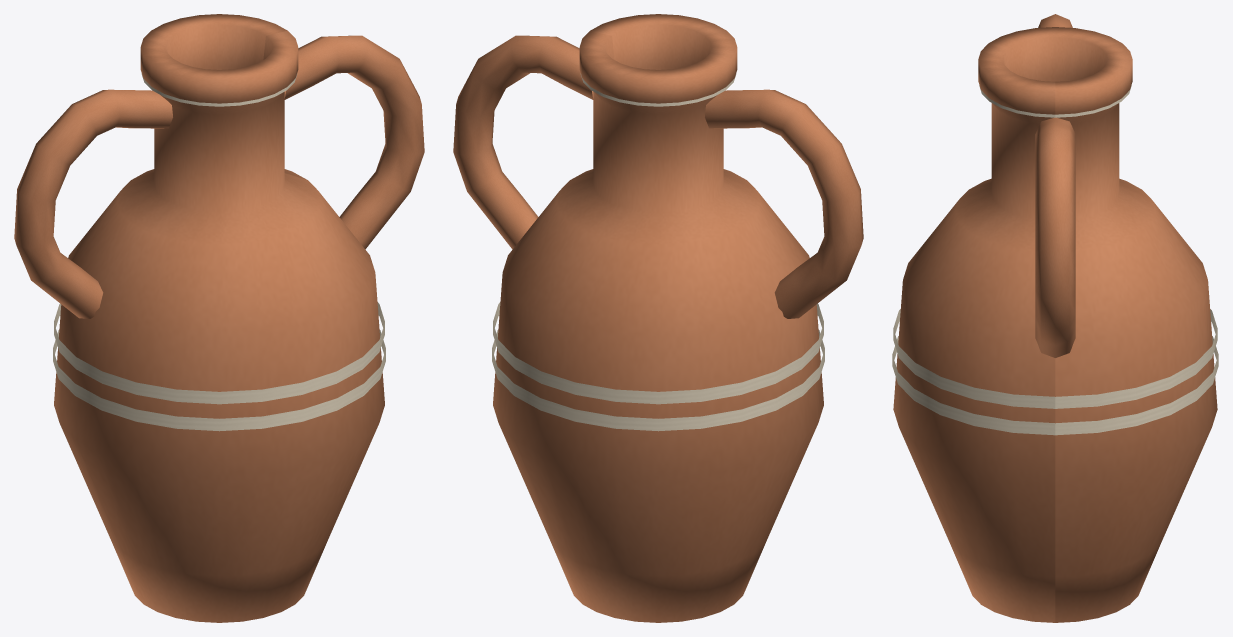
The model's file is 18-amphore.glb.
3 renders of one model, left to right at view 1: azimuth 30°, elevation 25°; view 2: azimuth 150°, elevation 25°; view 3: azimuth 270°, elevation 25°, orthographic. The views are drawn at different scales.
Visible parts, largest first — view 1: Amphora body, Amphora handle, Amphora handle.001, Cream painted band.001, Cream painted band, Cream painted band.002; view 2: Amphora body, Amphora handle, Amphora handle.001, Cream painted band.001, Cream painted band, Cream painted band.002; view 3: Amphora body, Amphora handle.001, Cream painted band.001, Cream painted band, Cream painted band.002.
Boxes of the visible parts, <box> form: Amphora body: <box>54,14,384,622</box>; Amphora handle: <box>14,89,172,318</box>; Amphora handle.001: <box>284,35,424,249</box>; Cream painted band.001: <box>54,302,384,404</box>; Cream painted band: <box>53,330,385,431</box>; Cream painted band.002: <box>141,73,297,106</box>; Amphora body: <box>493,14,823,622</box>; Amphora handle: <box>705,89,863,318</box>; Amphora handle.001: <box>453,35,593,249</box>; Cream painted band.001: <box>493,302,823,404</box>; Cream painted band: <box>492,330,824,431</box>; Cream painted band.002: <box>580,73,736,106</box>; Amphora body: <box>893,27,1217,622</box>; Amphora handle.001: <box>1035,117,1075,357</box>; Cream painted band.001: <box>893,309,1217,408</box>; Cream painted band: <box>892,336,1218,435</box>; Cream painted band.002: <box>979,85,1131,117</box>.
Bounding box in the file's own units: 0.4815 × 0.61 × 0.342.
Materials: 2 (2 with a texture image).
